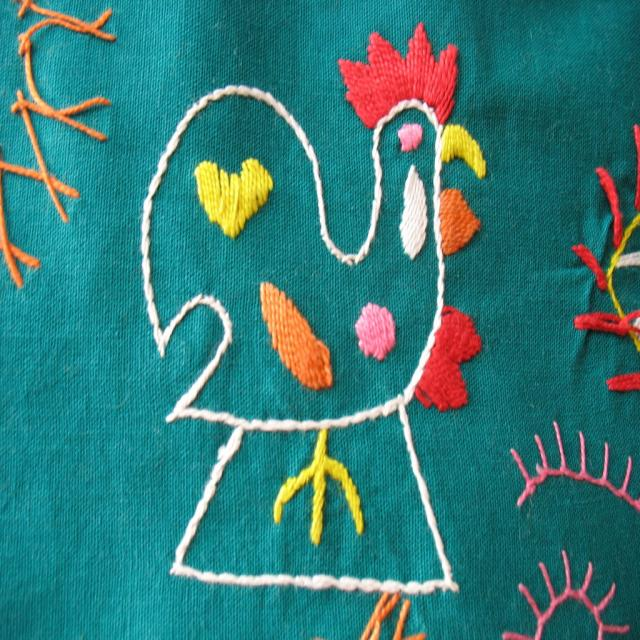Chicken: (141, 18, 483, 580)
